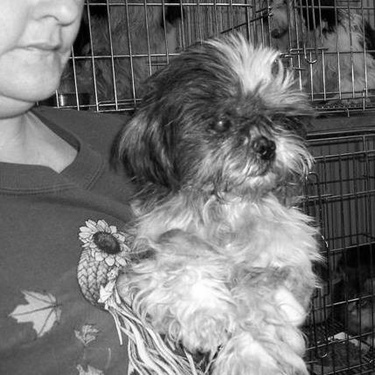cat: (318, 237, 372, 338)
dog: (91, 27, 329, 370), (228, 3, 372, 102), (65, 2, 188, 103)
